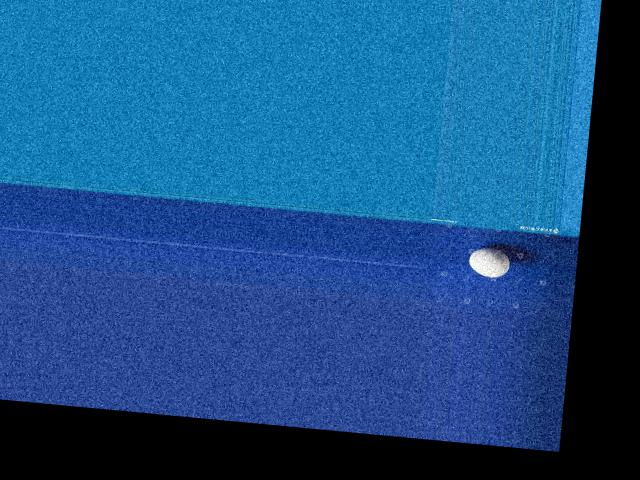egg: (467, 245, 510, 278)
